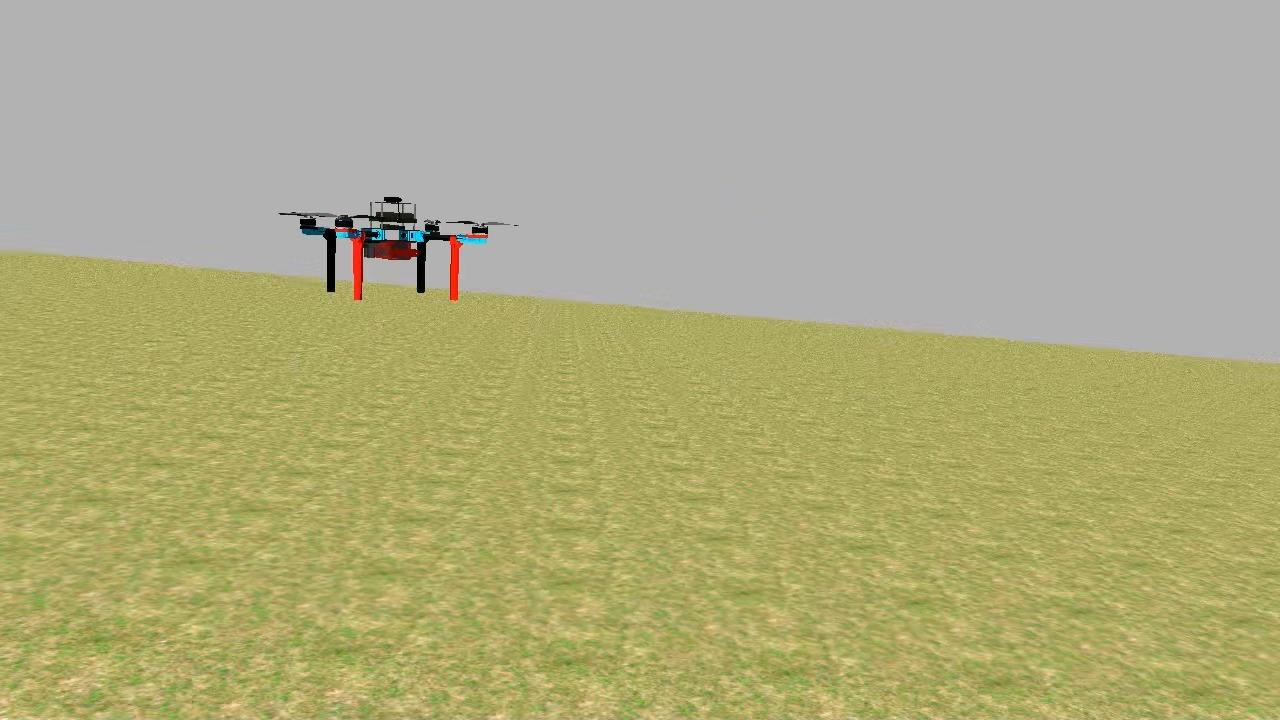UAV: (293, 186, 497, 310)
